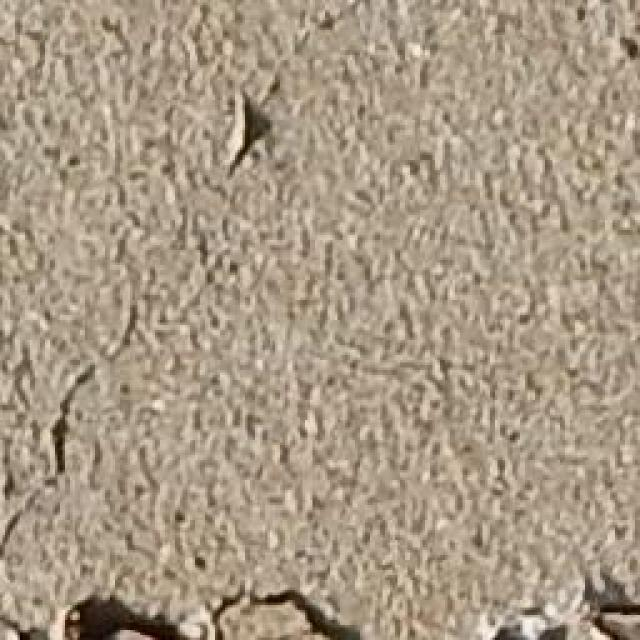concrete-crack: (1, 229, 156, 568), (0, 582, 377, 640), (492, 600, 640, 640), (223, 95, 278, 179)
